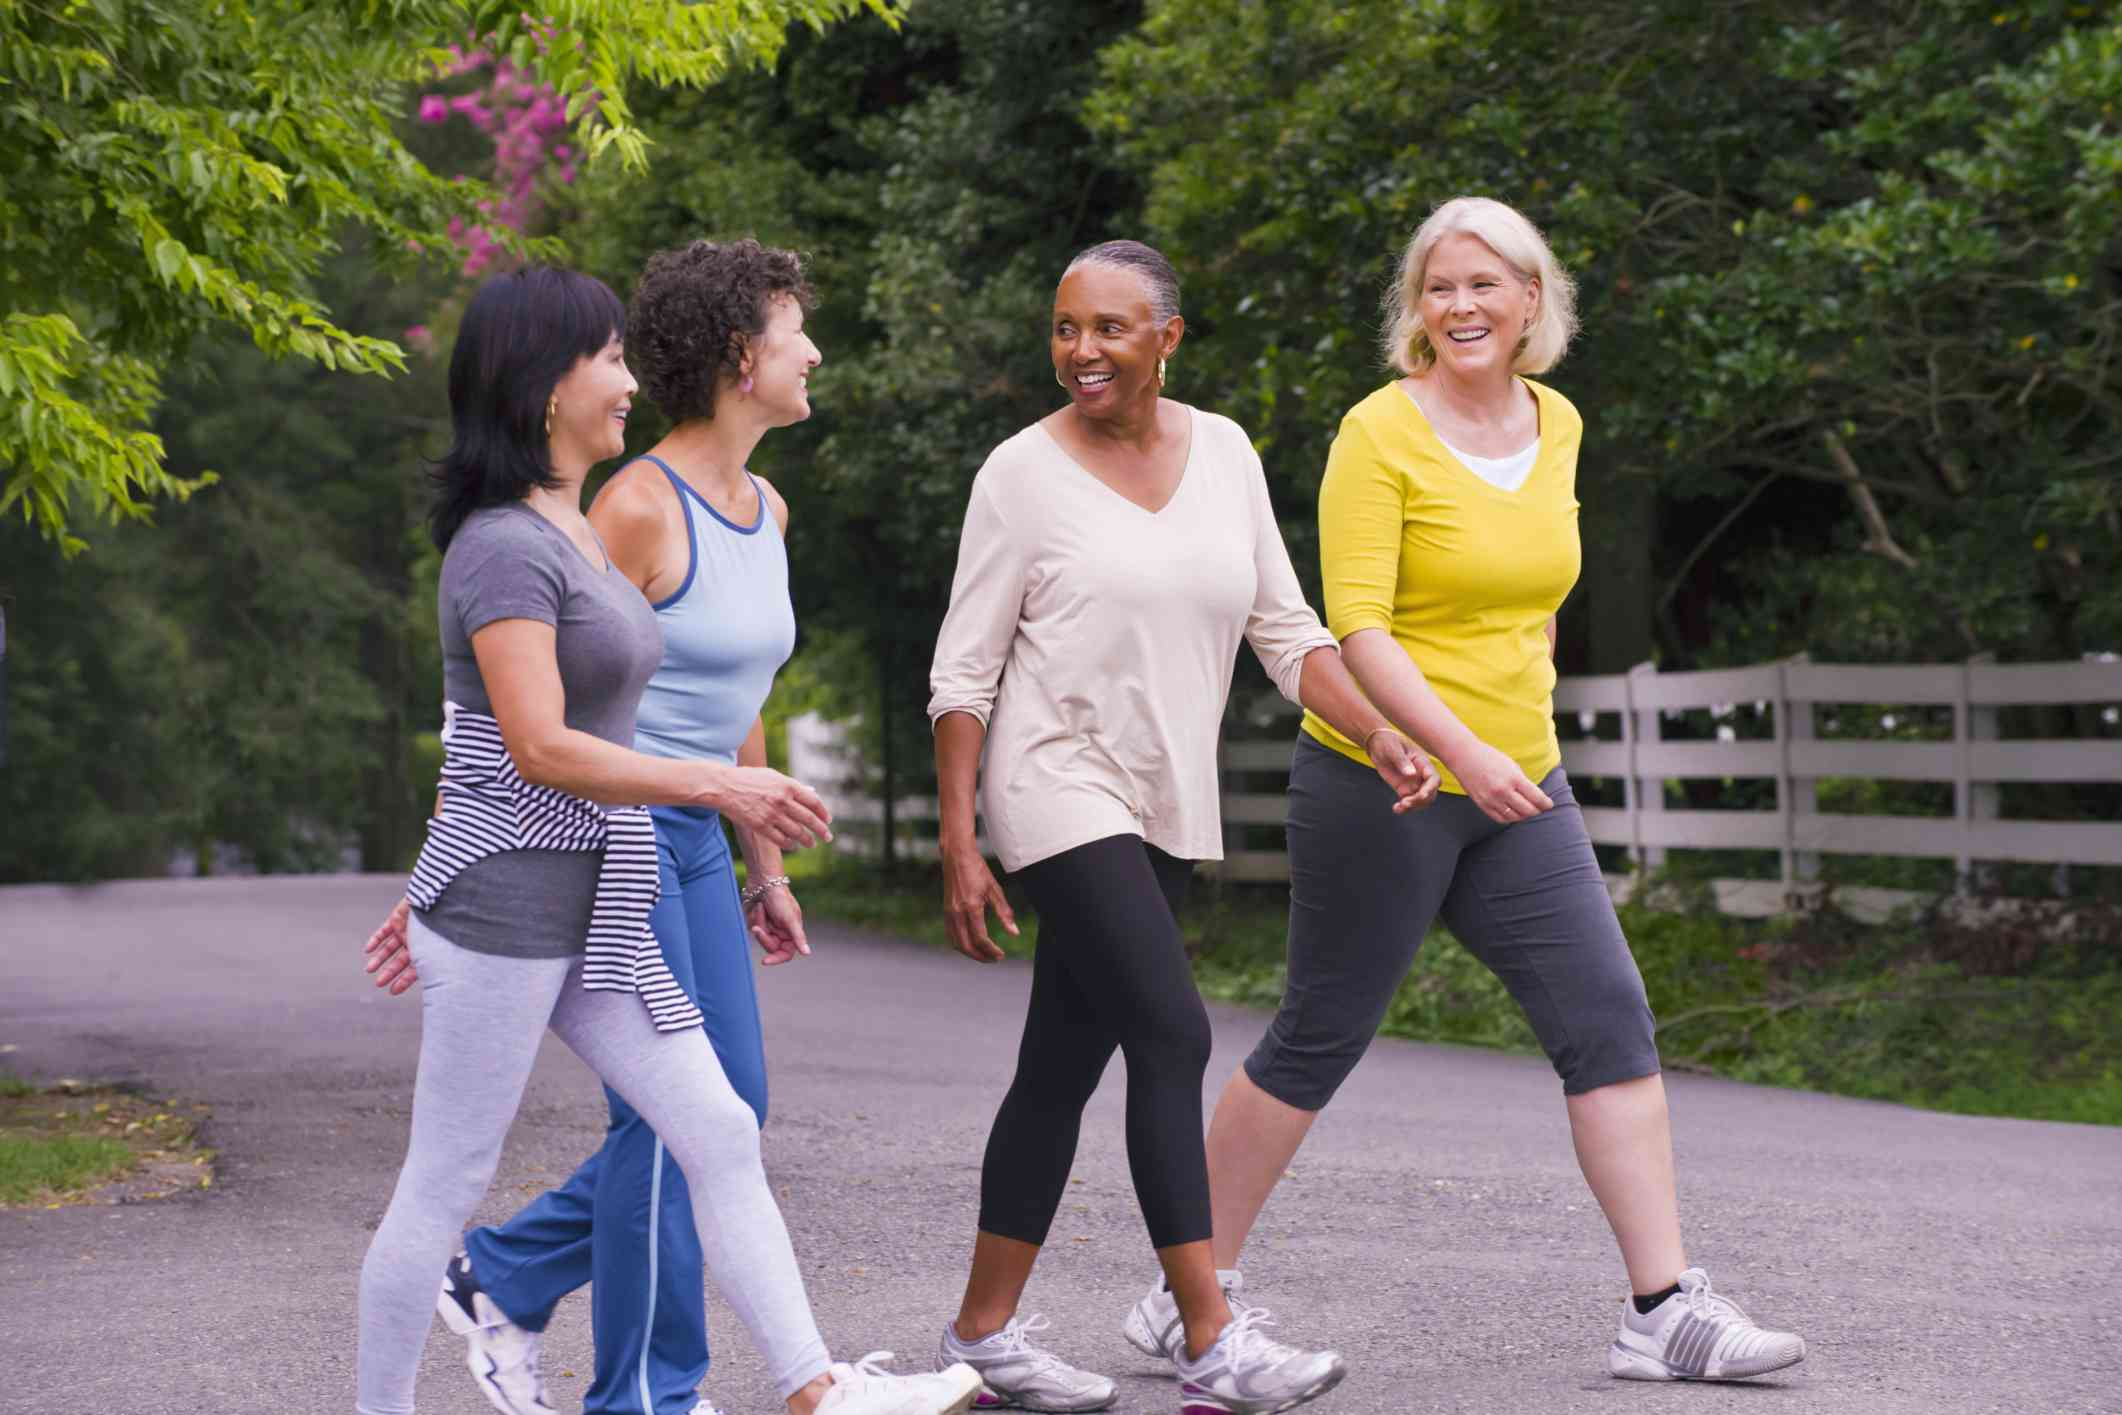NOTSAFE: (1003, 242, 1258, 876), (1352, 186, 1590, 848), (431, 253, 644, 952), (652, 251, 829, 889)
